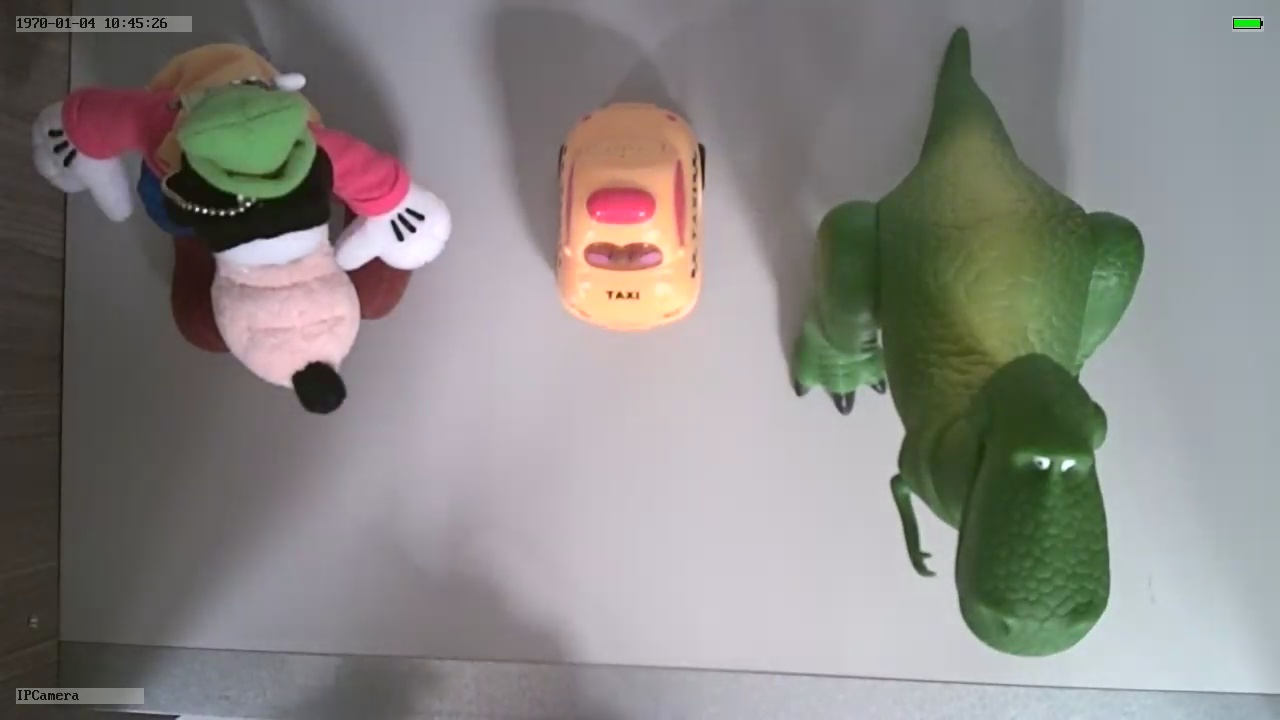car: (546, 96, 712, 335)
goofy: (32, 39, 453, 417)
rex: (793, 137, 1142, 658)
